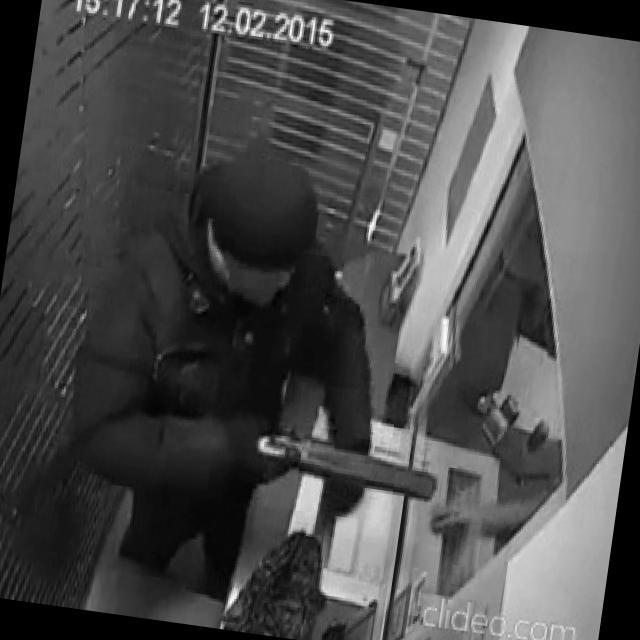gun: (248, 424, 442, 506)
person with a gun: (45, 116, 482, 628)
